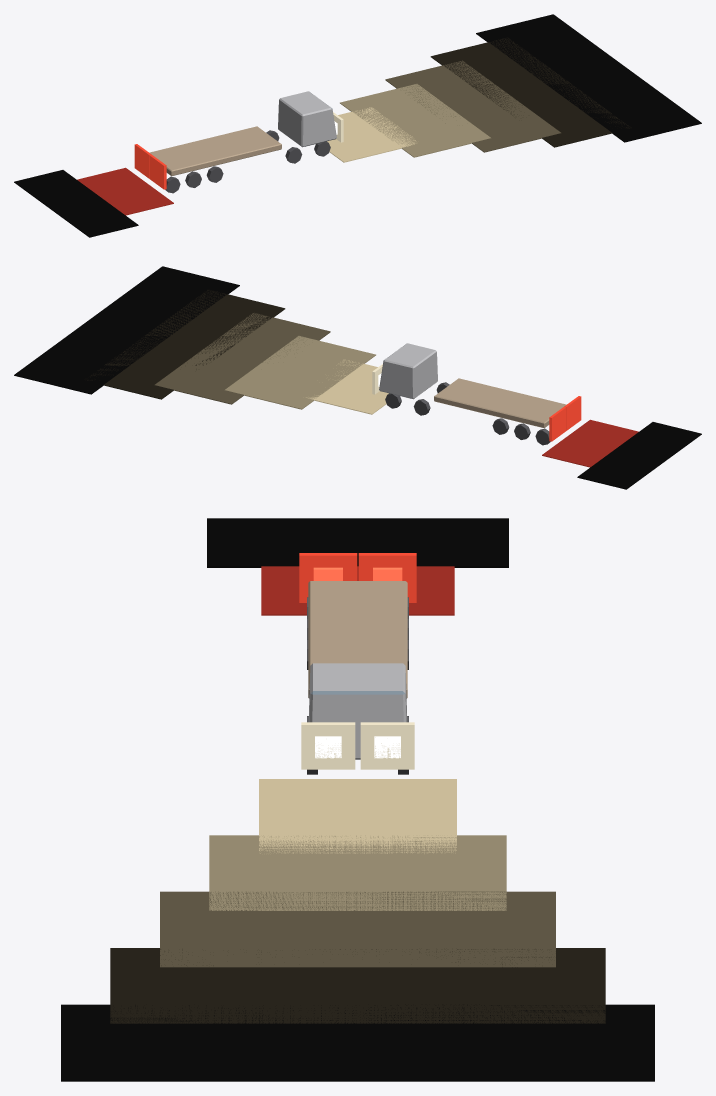
Rendered from veh_artic_flat.glb.
3 views of the same model, one above another, from view 1: azimuth 30°, elevation 25°; view 2: azimuth 150°, elevation 25°; view 3: azimuth 270°, elevation 25° (orthographic). The views are drawn at different scales.
Visible parts, largest first — view 1: veh_artic_flat; view 2: veh_artic_flat; view 3: veh_artic_flat.
Boxes of the visible parts, box(x1,y1,x2,y2) form: veh_artic_flat: box(14, 14, 701, 237); veh_artic_flat: box(14, 266, 701, 489); veh_artic_flat: box(61, 518, 654, 1081).
Size of the model in its own units: 3.09 by 0.235 by 1.38.
